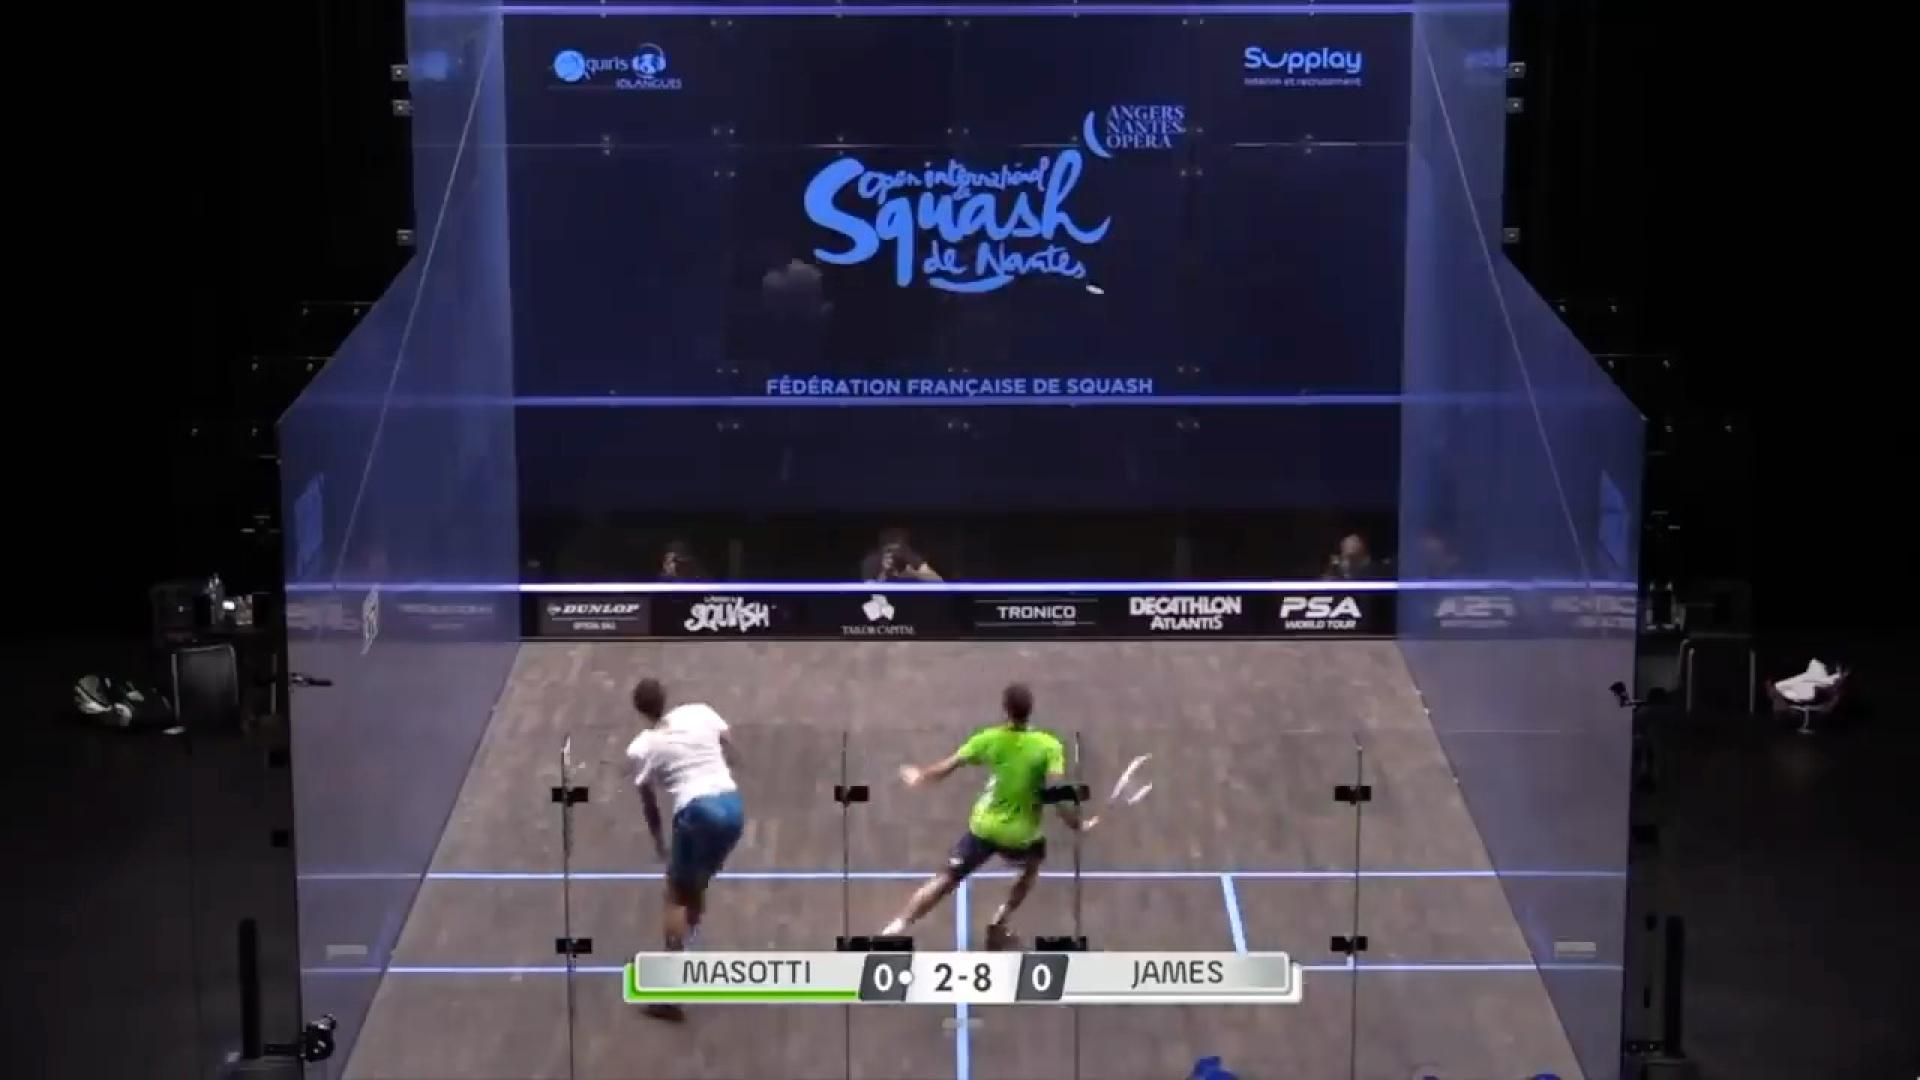Squash-Ball: (1072, 273, 1117, 307)
